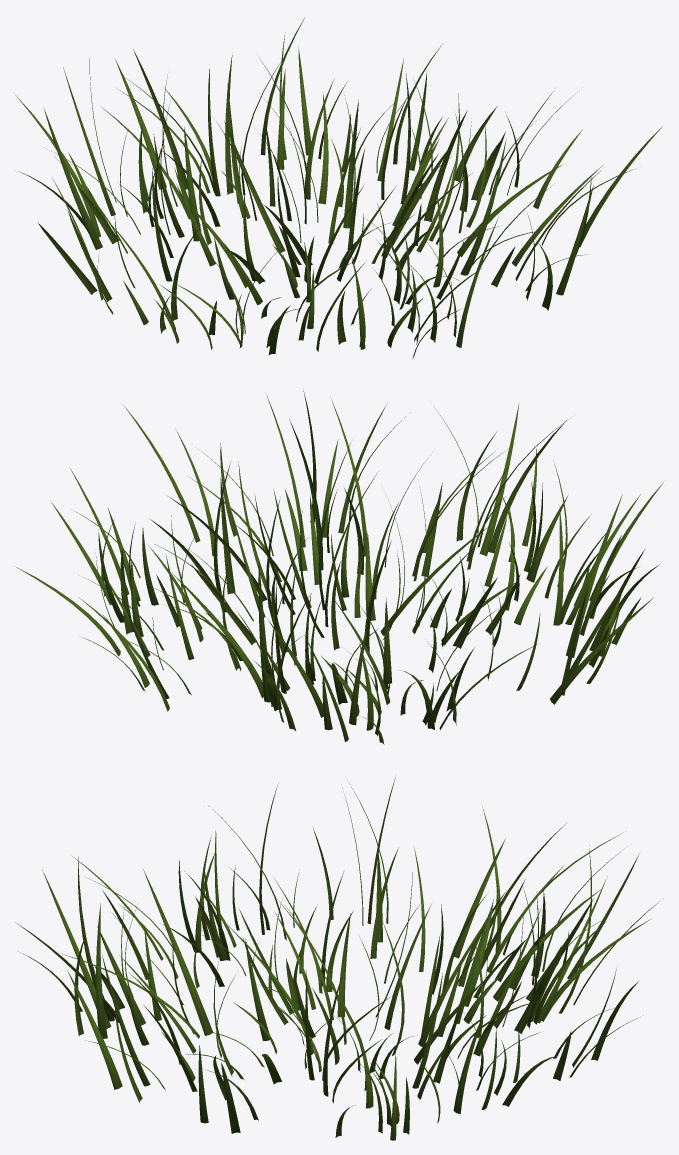
The model's file is grass_short_lod0.gltf.
3 renders of one model, top to bottom at view 1: azimuth 30°, elevation 25°; view 2: azimuth 150°, elevation 25°; view 3: azimuth 270°, elevation 25°, orthographic. The views are drawn at different scales.
Parts seen in each view (by area): view 1: grass_short_lod0; view 2: grass_short_lod0; view 3: grass_short_lod0.
Boxes of the visible parts, left/top/right/bottom form: grass_short_lod0: left=14, top=18, right=662, bottom=358; grass_short_lod0: left=16, top=391, right=663, bottom=744; grass_short_lod0: left=15, top=777, right=663, bottom=1140.
Bounding box in the file's own units: 1.01 × 0.2429 × 0.9538.
Materials: 1 (1 with a texture image).
